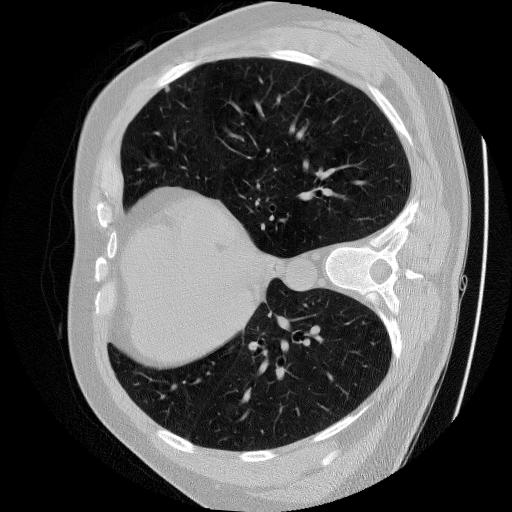nodule: (161, 82, 173, 94)
